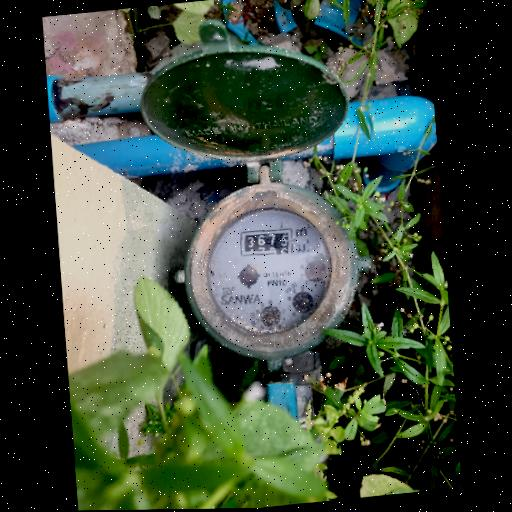3: (244, 234, 257, 252)
5: (275, 232, 290, 254)
6: (254, 233, 267, 251)
7: (265, 233, 277, 252)
border_water_meter_number: (239, 225, 294, 258)
